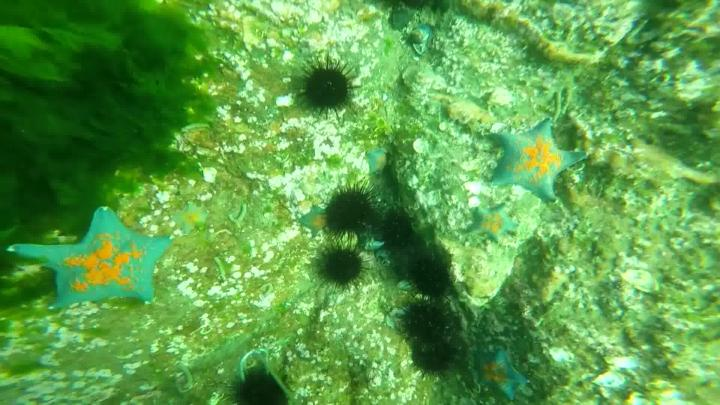holothurian: (12, 207, 172, 304), (490, 118, 588, 202), (477, 344, 531, 402), (470, 205, 518, 243), (364, 150, 389, 174)
scallop: (622, 268, 661, 297), (598, 368, 627, 390), (467, 175, 491, 197), (414, 140, 429, 152)
starfish: (306, 239, 368, 291), (317, 189, 374, 245), (297, 66, 362, 114), (403, 299, 455, 342), (239, 365, 288, 405), (380, 202, 416, 255), (412, 258, 452, 299), (415, 342, 457, 377)
